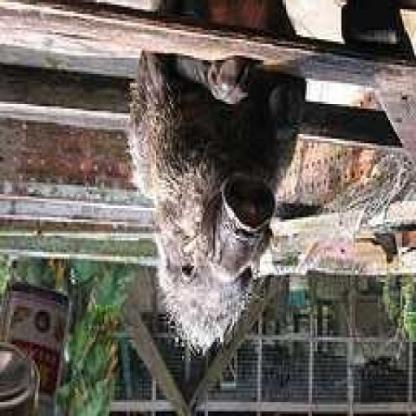boar: (114, 1, 303, 346)
